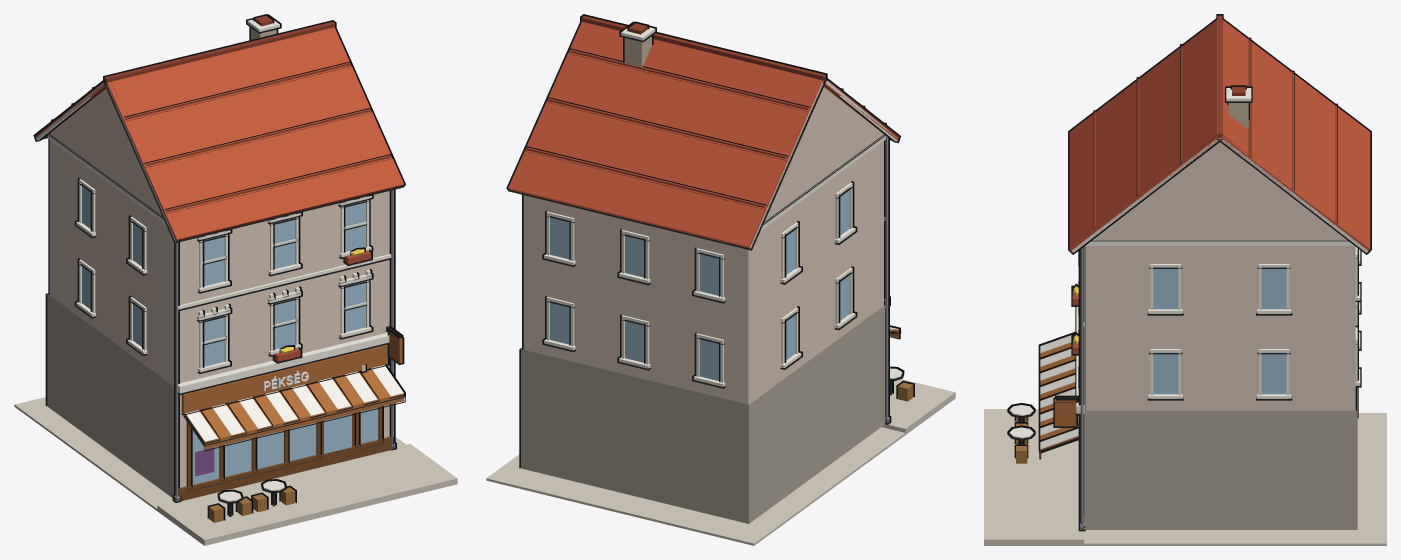
Rendered from Dukkan_genel_pekseg.fbx.
3 renders of one model, left to right at view 1: azimuth 30°, elevation 25°; view 2: azimuth 150°, elevation 25°; view 3: azimuth 270°, elevation 25°, orthographic. The views are drawn at different scales.
Visible parts, largest first — view 1: Dukkan_genel_pekseg; view 2: Dukkan_genel_pekseg; view 3: Dukkan_genel_pekseg.
Boxes of the visible parts, bbox=[...] form: Dukkan_genel_pekseg: bbox=[14, 14, 457, 545]; Dukkan_genel_pekseg: bbox=[486, 14, 955, 545]; Dukkan_genel_pekseg: bbox=[984, 14, 1386, 545].
Size of the model in its own units: 9.87 by 14.77 by 12.86.
